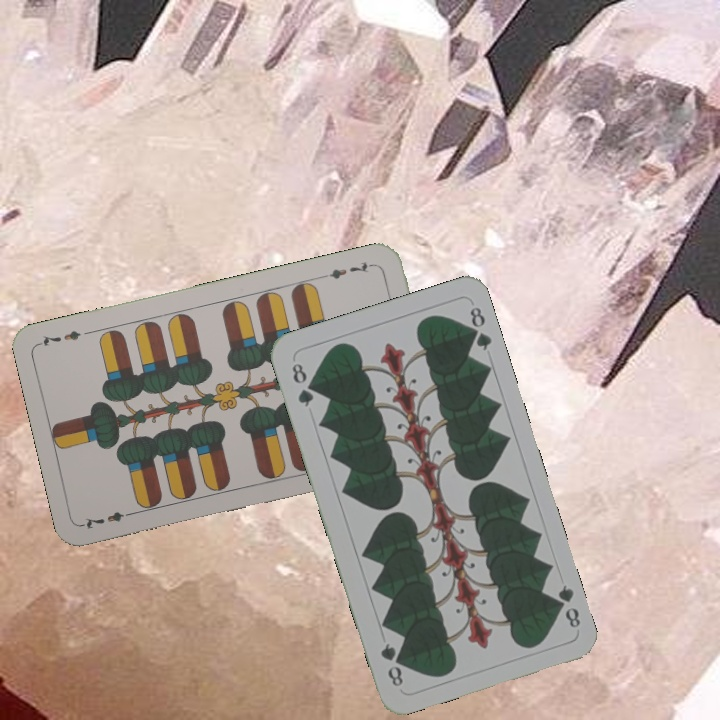E7: (319, 257, 377, 282), (79, 507, 137, 532)
G8: (549, 581, 583, 631), (287, 359, 316, 409)
